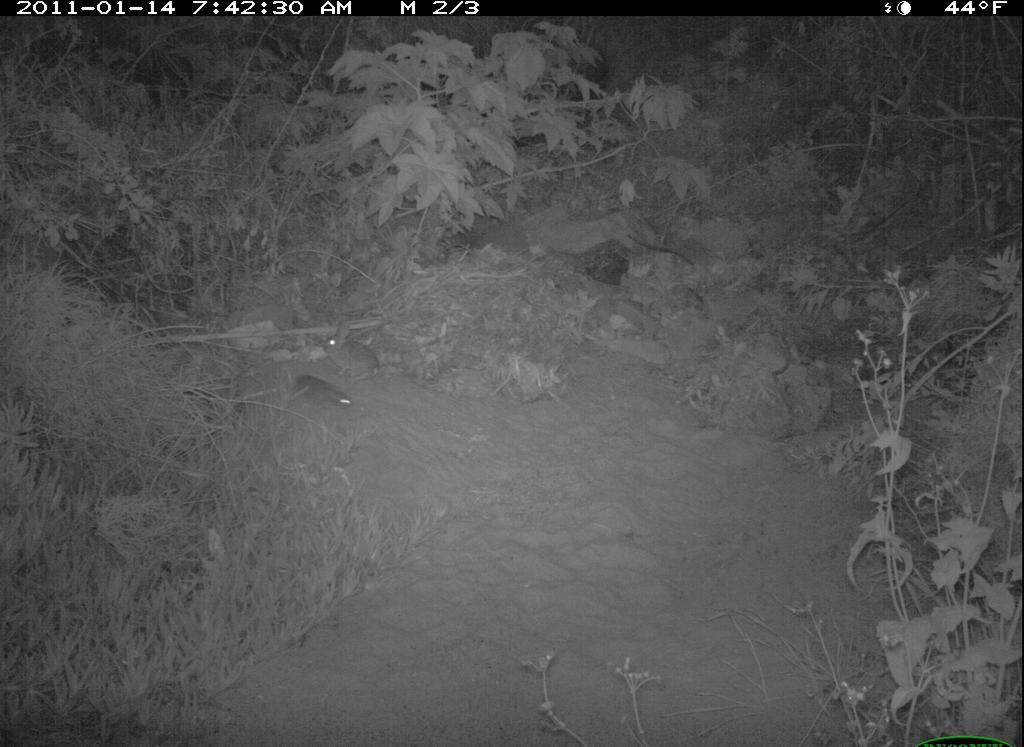rabbit: (308, 323, 411, 390), (269, 374, 356, 422)
